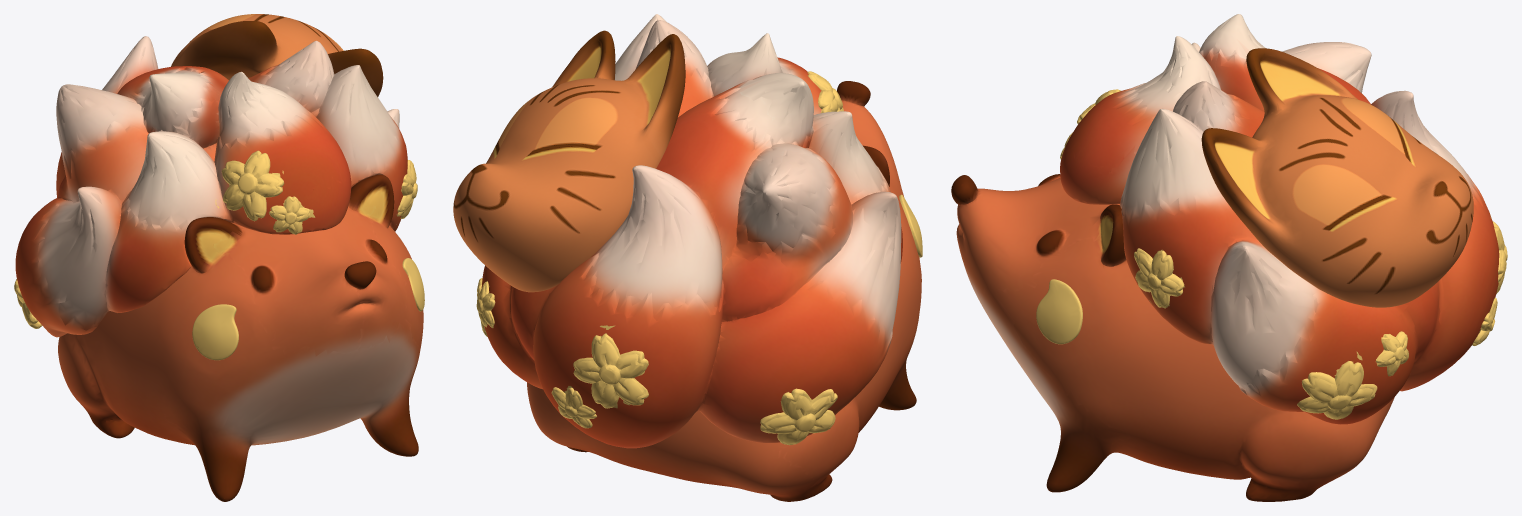
The model's file is 妖狐刺刺.glb.
3 views of the same model, side by side, from view 1: azimuth 30°, elevation 25°; view 2: azimuth 150°, elevation 25°; view 3: azimuth 270°, elevation 25° (orthographic). The views are drawn at different scales.
Visible parts, largest first — view 1: SH_F_Body, SH_F_Back, SH_M_F_M2_3, SH_F_Flower, SH_F_Face; view 2: SH_F_Back, SH_M_F_M2_3, SH_F_Body, SH_F_Flower; view 3: SH_F_Back, SH_F_Body, SH_M_F_M2_3, SH_F_Flower, SH_F_Face.
Part boxes in pixels (box(x1,y1,x2,y2)): SH_F_Body: box(58, 174, 423, 501); SH_F_Back: box(15, 36, 407, 337); SH_M_F_M2_3: box(171, 14, 383, 96); SH_F_Flower: box(14, 150, 417, 328); SH_F_Face: box(192, 258, 424, 360); SH_F_Back: box(481, 14, 902, 448); SH_M_F_M2_3: box(453, 30, 685, 292); SH_F_Body: box(527, 81, 921, 501); SH_F_Flower: box(476, 71, 843, 445); SH_F_Back: box(1060, 14, 1499, 424); SH_F_Body: box(951, 174, 1394, 501); SH_M_F_M2_3: box(1201, 48, 1473, 307); SH_F_Flower: box(1060, 89, 1507, 419); SH_F_Face: box(1036, 279, 1082, 344).
Bounding box in the file's own units: 0.5367 × 0.5605 × 0.6895.
5 materials, 5 textured.
